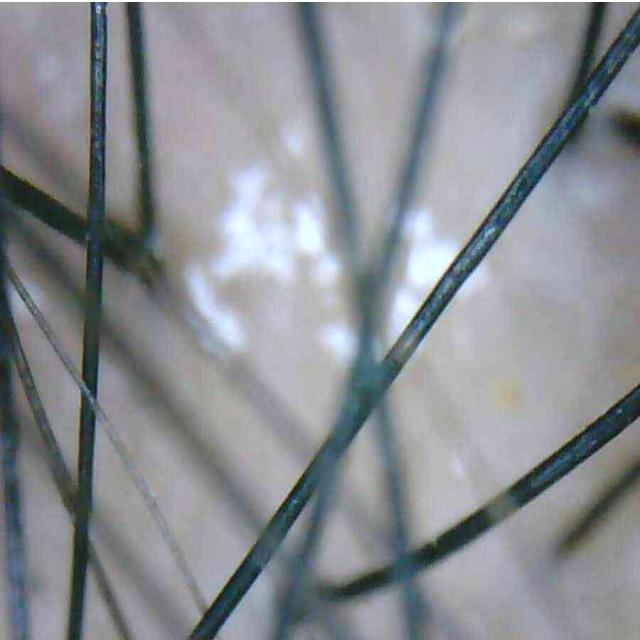d: (214, 167, 328, 282), (185, 264, 246, 351), (405, 208, 459, 290), (319, 322, 358, 365), (391, 288, 420, 328), (314, 255, 339, 287)
